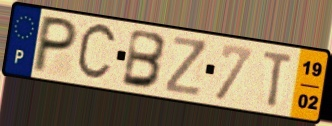7: (217, 42, 255, 103)
B: (120, 27, 170, 91)
C: (74, 20, 119, 84)
P: (29, 13, 81, 75)
T: (261, 48, 296, 109)
Z: (164, 34, 209, 99)
